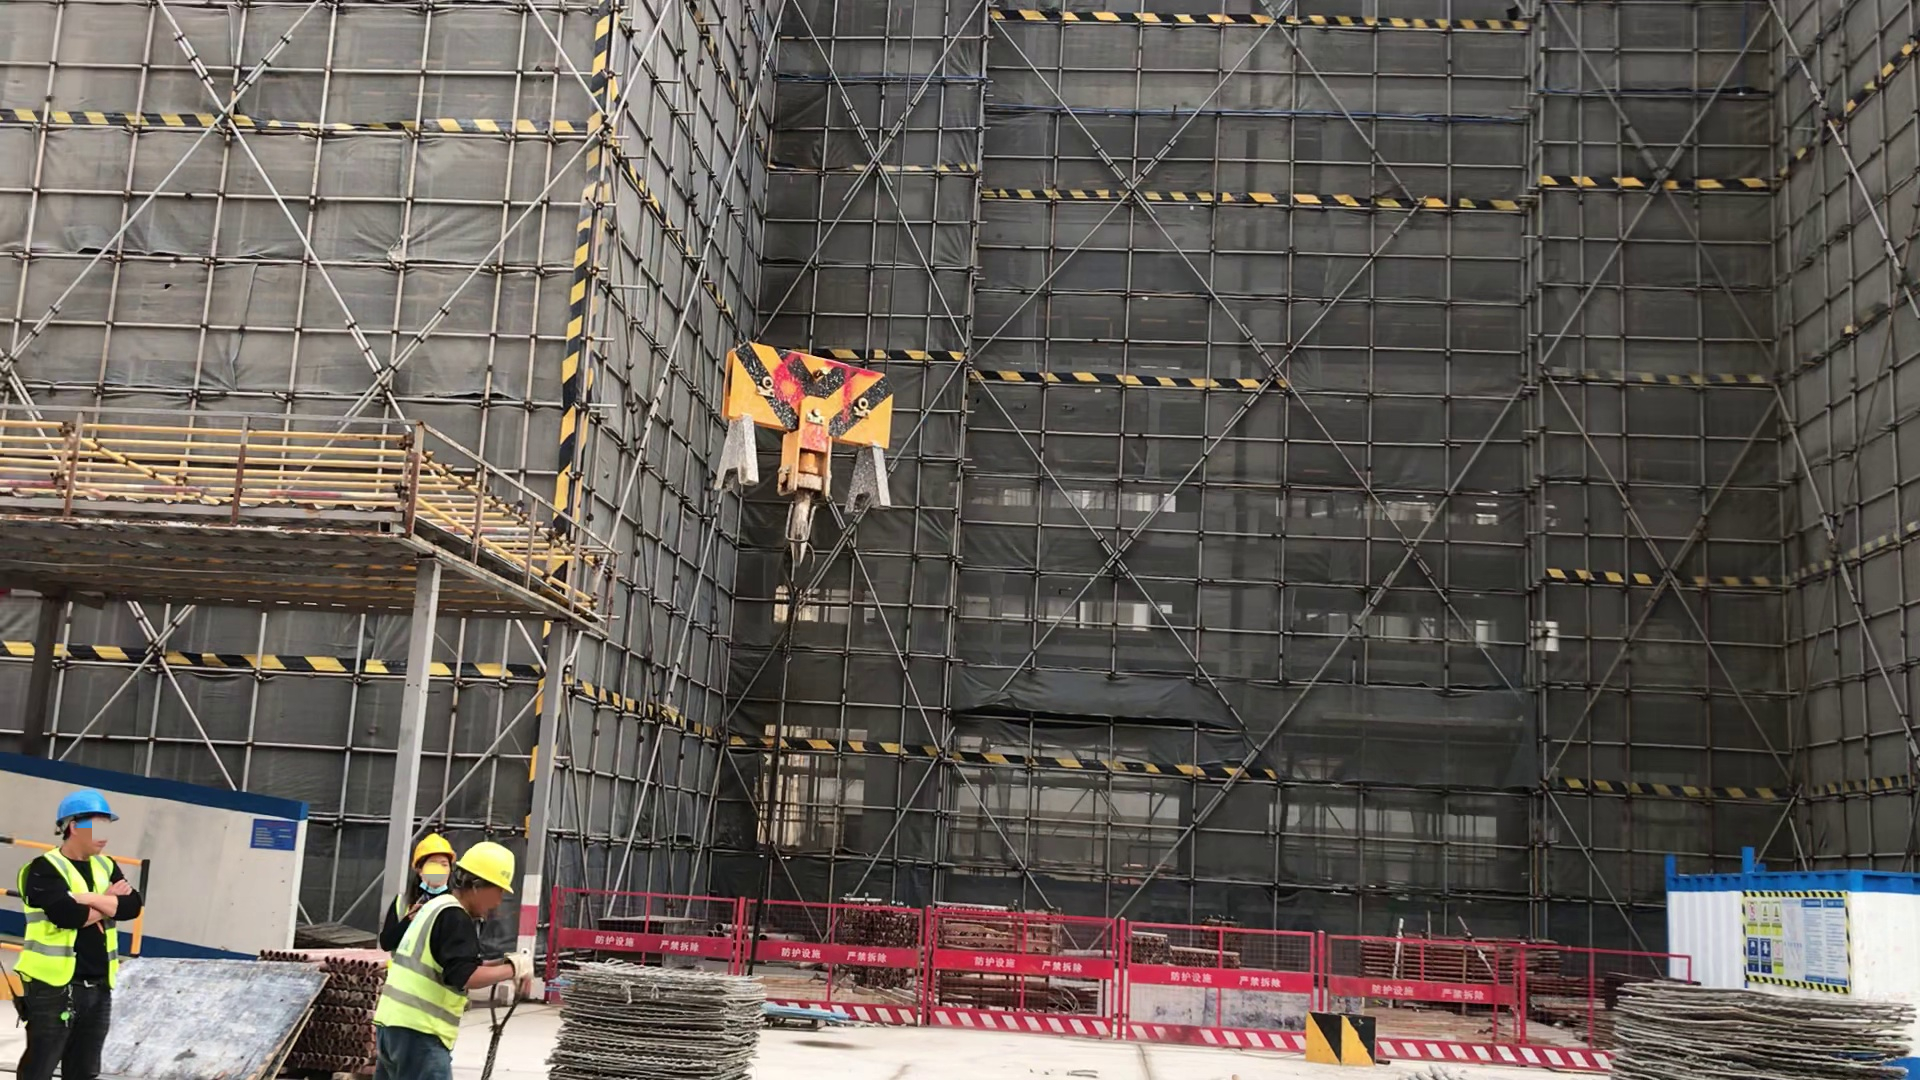fence: (774, 894, 1302, 1057), (1376, 927, 1602, 1076), (550, 878, 745, 961)
helmet: (455, 839, 517, 901), (54, 792, 119, 825), (411, 833, 455, 868)
hook: (704, 339, 902, 569)
person: (377, 842, 535, 1080), (14, 789, 143, 1080), (382, 831, 451, 901)
scaffold: (325, 948, 375, 1080)
slogan: (1745, 891, 1848, 994)
vest: (376, 896, 473, 1057), (17, 850, 123, 993)
